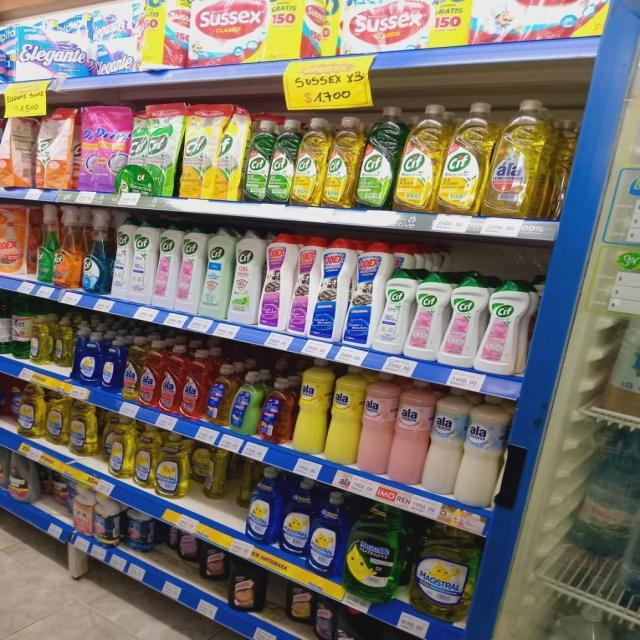ala_conc_amarillo: (488, 98, 548, 216), (124, 337, 140, 402)
ala_conc_rojo: (182, 348, 208, 420), (161, 343, 182, 414), (140, 339, 161, 408)
ala_crem_amarillo: (328, 365, 360, 466), (295, 359, 328, 456)
ala_crem_blanco: (458, 400, 506, 508), (425, 391, 460, 496)
ala_crem_rosado: (391, 379, 426, 485), (359, 372, 392, 476)
cif_conc_bot_amarilla: (441, 102, 486, 215), (398, 104, 440, 212), (325, 115, 358, 208), (294, 117, 324, 206)
cif_conc_botella_verde: (359, 105, 396, 210), (269, 118, 294, 204), (244, 118, 269, 202)
cif_conc_sachet_amarillo: (180, 103, 215, 199), (215, 104, 243, 200)
cif_conc_sachet_verde: (127, 103, 178, 196)
magistral_con_amarillo: (413, 525, 473, 621), (156, 431, 191, 498), (105, 414, 134, 480), (70, 400, 98, 458), (16, 382, 44, 439), (134, 423, 155, 489), (46, 392, 69, 446)
magistral_con_azul: (310, 490, 345, 579), (246, 466, 280, 546), (281, 478, 310, 557), (77, 330, 101, 387), (101, 334, 122, 394)
